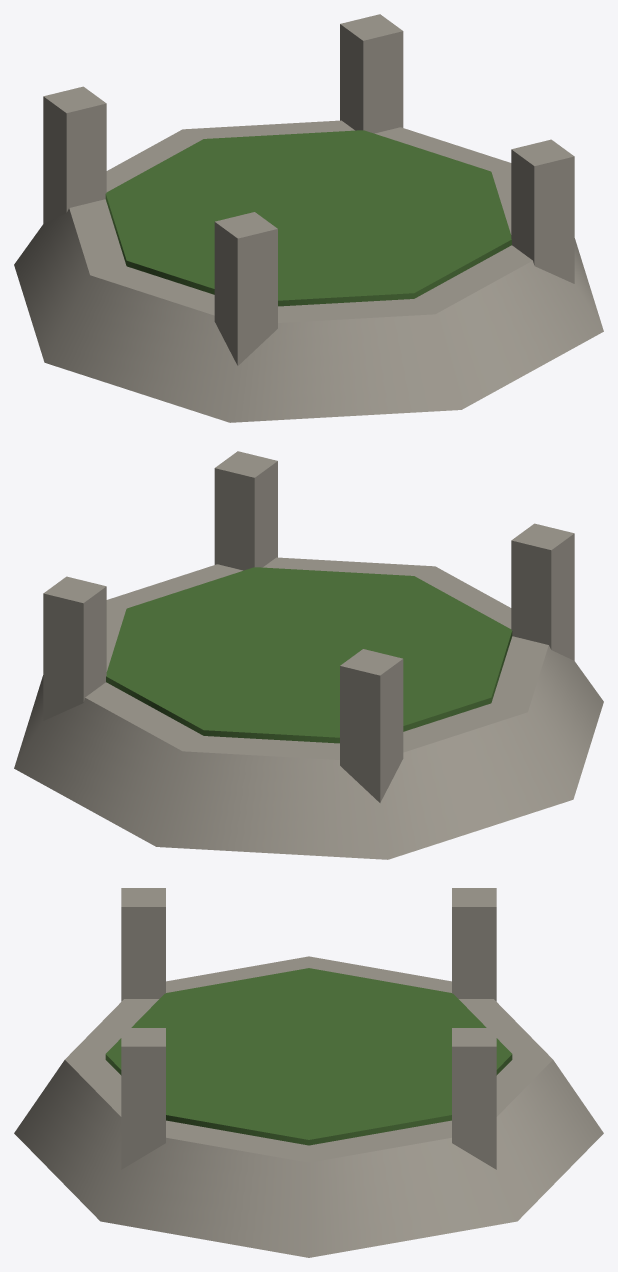
The model's file is flag_stand.glb.
3 renders of one model, top to bottom at view 1: azimuth 30°, elevation 25°; view 2: azimuth 150°, elevation 25°; view 3: azimuth 270°, elevation 25°, orthographic. The views are drawn at different scales.
Visible parts, largest first — view 1: Plinth, Moss, Post1, Post0, Post2, Post3; view 2: Plinth, Moss, Post2, Post3, Post1, Post0; view 3: Plinth, Moss, Post0, Post3, Post1, Post2.
Boxes of the visible parts, x1,y1,x2,y2 form: Plinth: (14,120,603,422); Moss: (105,130,511,306); Post1: (214,212,277,365); Post0: (511,139,574,283); Post2: (43,86,106,223); Post3: (340,14,403,133); Plinth: (14,557,603,859); Moss: (106,567,512,743); Post2: (340,649,403,802); Post3: (43,576,106,720); Post1: (511,523,574,660); Post0: (214,451,277,570); Plinth: (14,956,603,1257); Moss: (105,968,512,1145); Post0: (121,1028,165,1169); Post3: (452,1028,496,1169); Post1: (121,888,165,1001); Post2: (452,888,496,1001).
Bounding box in the file's own units: 2.9 × 0.9 × 2.9.
